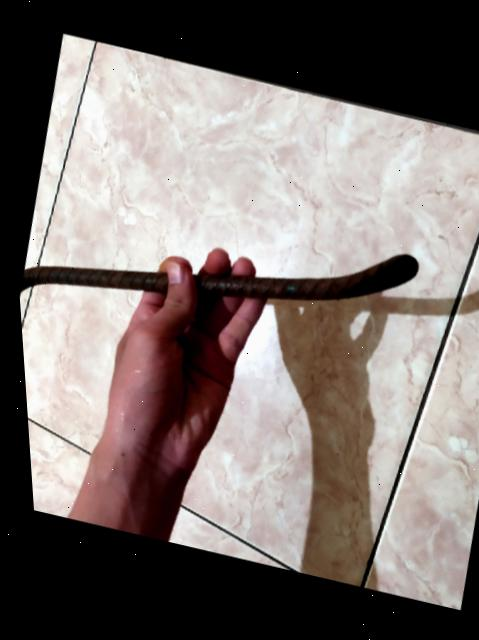crow bar: (15, 241, 426, 307)
